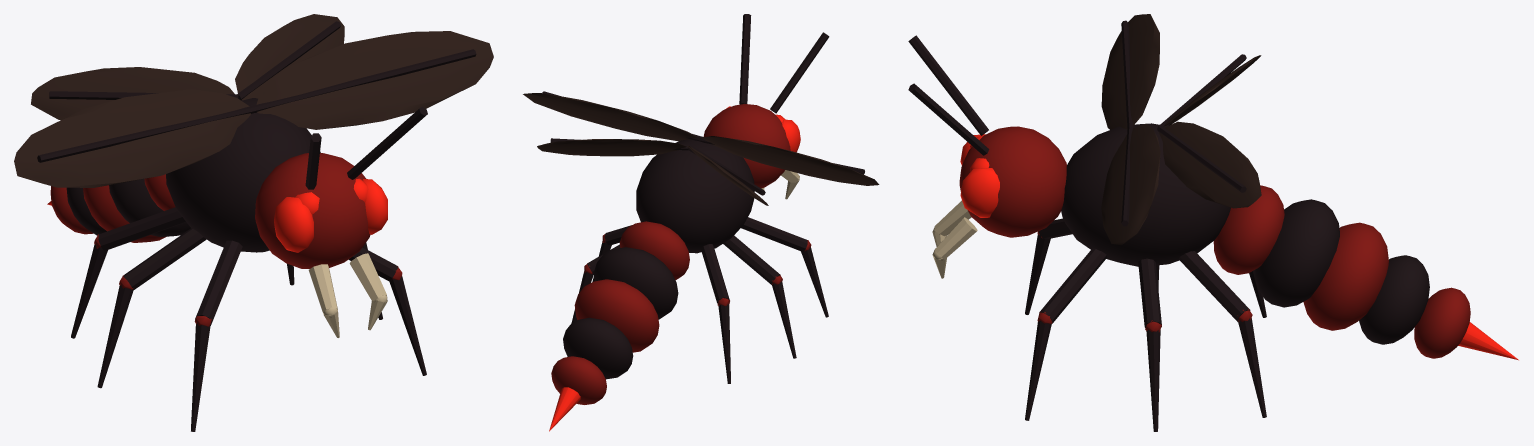
Rendered from Wasp.obj.
3 renders of one model, left to right at view 1: azimuth 30°, elevation 25°; view 2: azimuth 150°, elevation 25°; view 3: azimuth 270°, elevation 25°, orthographic. The views are drawn at different scales.
Parts seen in each view (by area): view 1: Wasp; view 2: Wasp; view 3: Wasp.
Boxes of the visible parts, x1,y1,x2,y2 form: Wasp: (14,14,493,431); Wasp: (523,14,879,431); Wasp: (908,14,1518,431).
Bounding box in the file's own units: 0.7124 × 0.4649 × 0.8381.
